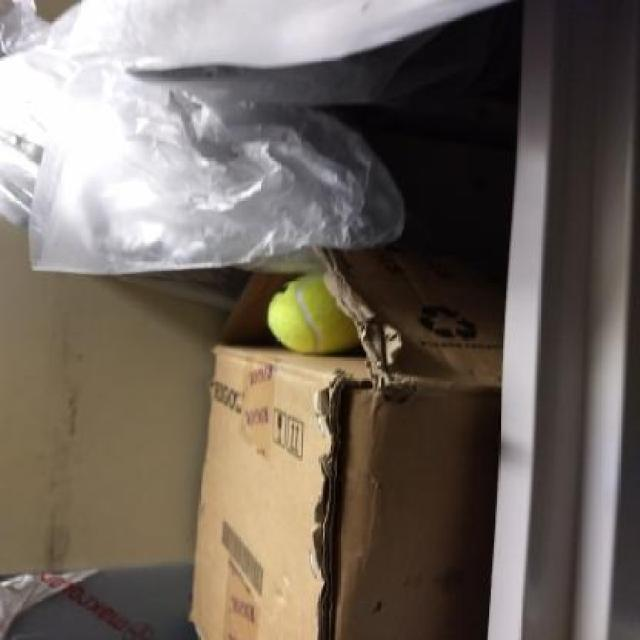Tennis_Ball: (271, 274, 355, 355)
